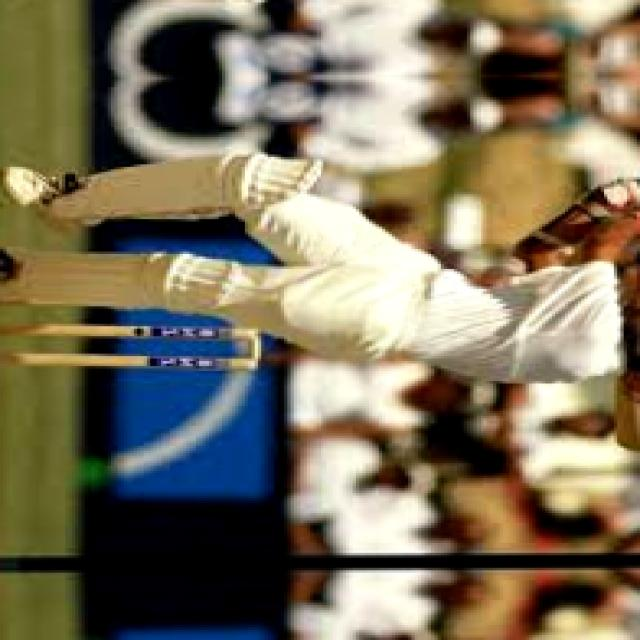toe: (619, 428, 640, 453)
